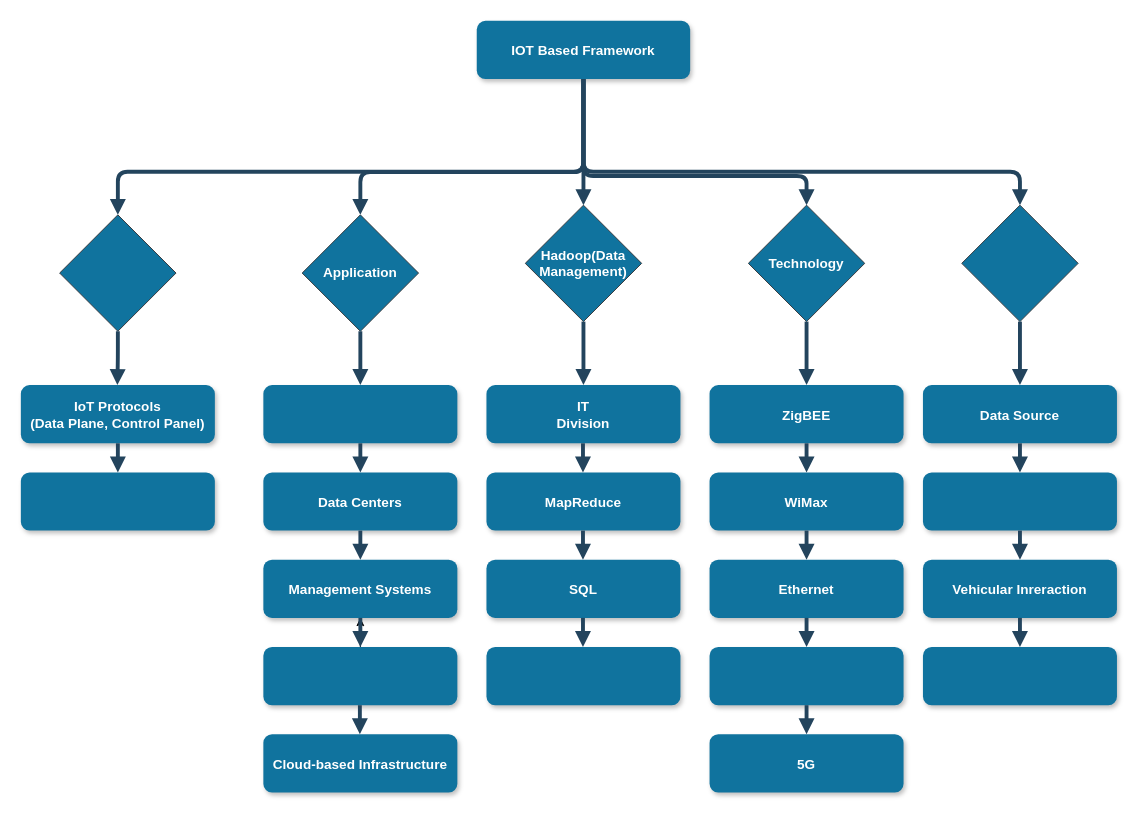
Image size: 1139x816. Some labels were removed from this diagram. The centre of each missing label's shape, as x and y in pixels:
4G: the point at 807,677
Communication Systems: the point at 361,677
Data Generation: the point at 1019,263
Enveronment: the point at 1020,677
HBASE: the point at 584,677
Smart Campus Application: the point at 361,415
Smart Campus Data: the point at 1020,502
Utility Programs: the point at 117,272
WSN Protocols (at all TCP/IP Layers): the point at 118,502
